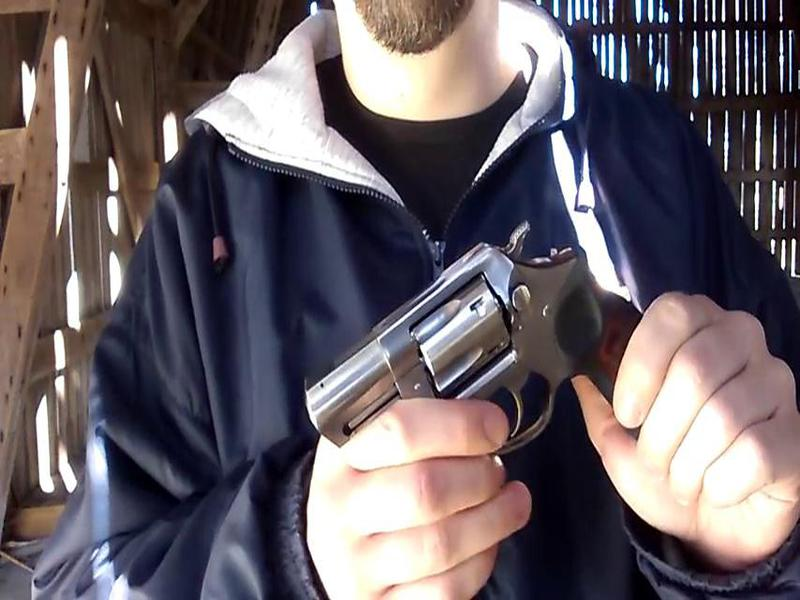Revolver: (289, 209, 637, 465)
